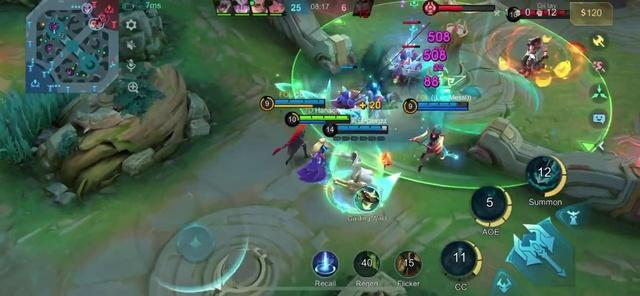Adc_Aliado: (90, 18, 98, 29)
Arbusto: (0, 90, 78, 163)
Balmont: (519, 37, 548, 76)
Energia: (273, 104, 326, 109)
Esbirro_Aliado: (331, 89, 359, 106)
Esbirro_Enemigo: (385, 44, 446, 82), (389, 49, 421, 82)
Exp_Aliado: (82, 2, 91, 14)
Granger: (334, 151, 371, 186)
HP_Aliado: (337, 125, 387, 131), (275, 100, 323, 106), (416, 103, 471, 107)
HP_Heroe_Principal: (299, 115, 349, 121), (299, 120, 352, 124)
Jungla_Enemigo: (98, 13, 110, 23)
Lesly: (272, 125, 307, 164)
Mana: (417, 107, 469, 111)
Matilda: (410, 130, 446, 170)
Minimapa: (27, 0, 119, 92)
Pasiva_Granger: (332, 134, 387, 142)
Roamer_Aliado: (95, 18, 103, 29)
Torre_Enemiga: (443, 20, 468, 89)
Torre_destruida: (205, 241, 270, 295)
Vexana: (296, 138, 328, 182)
